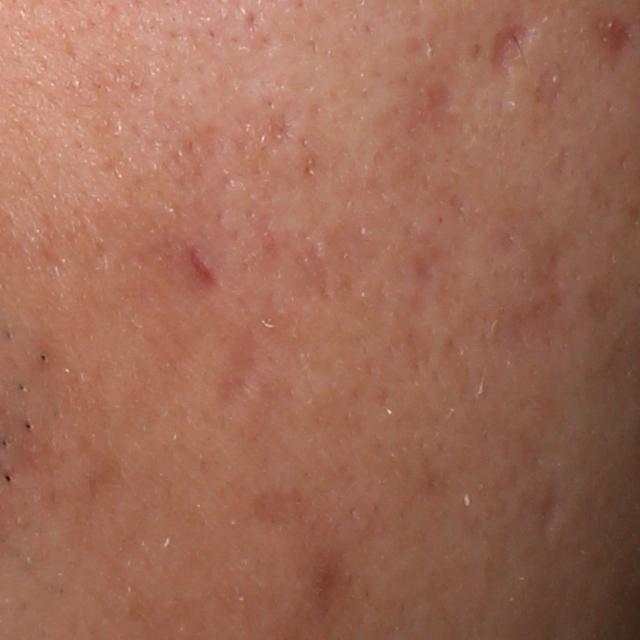atrophic_scar: (405, 73, 468, 142), (218, 327, 271, 407), (488, 18, 541, 83), (587, 15, 635, 71), (535, 470, 570, 543), (189, 243, 223, 289), (252, 110, 296, 144)
